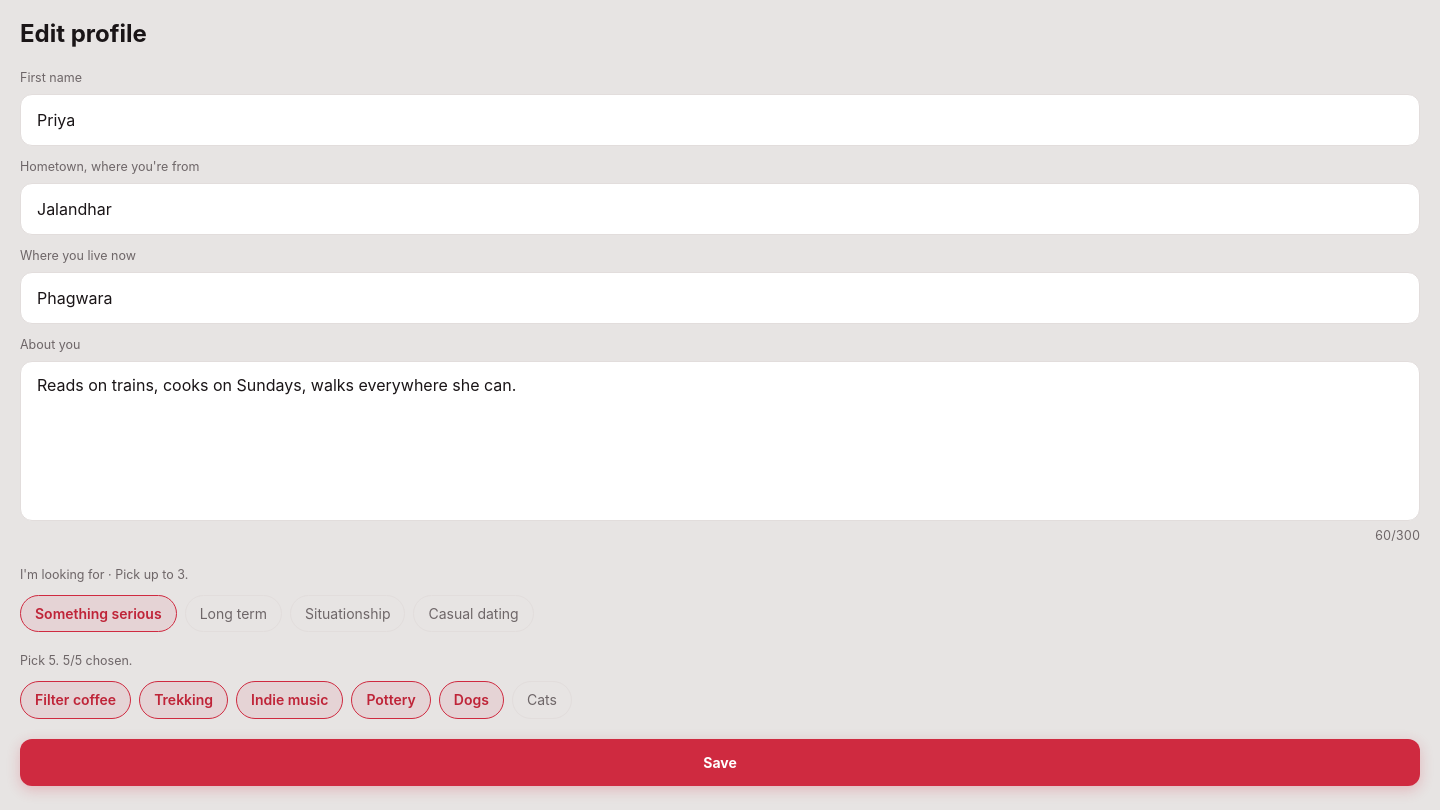
edit profile (T-9.8) › can't save with fewer than five interests
This screenshot has width=1440, height=810.
Click the button "Dogs".
click(471, 700)  # box [439,681,504,719]
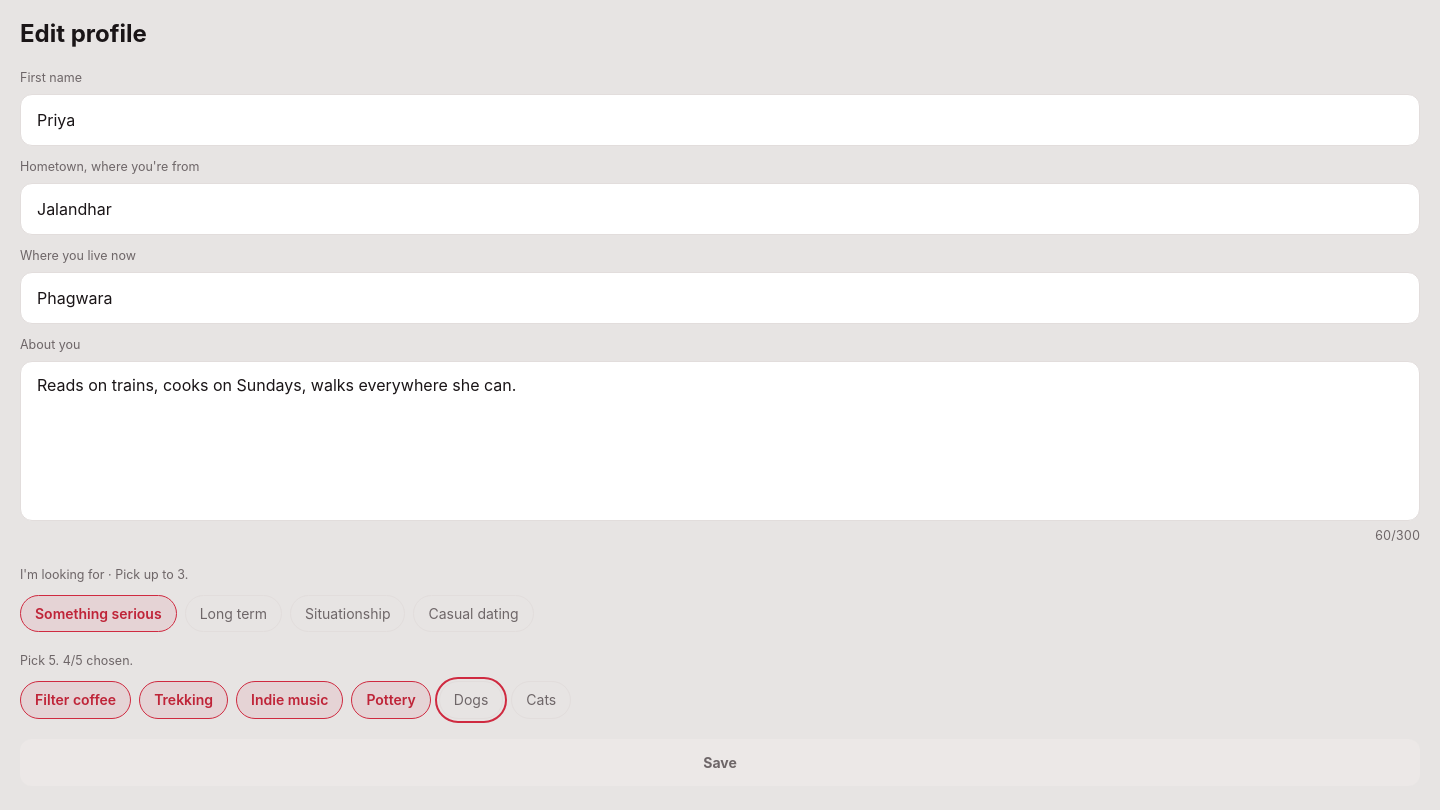
Expected: the button "Save" is disabled, [20,739,1420,786]
